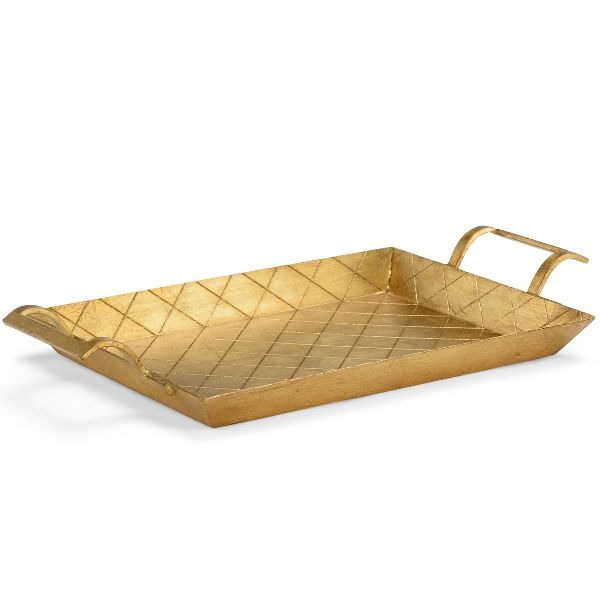metal: (3, 223, 597, 428)
